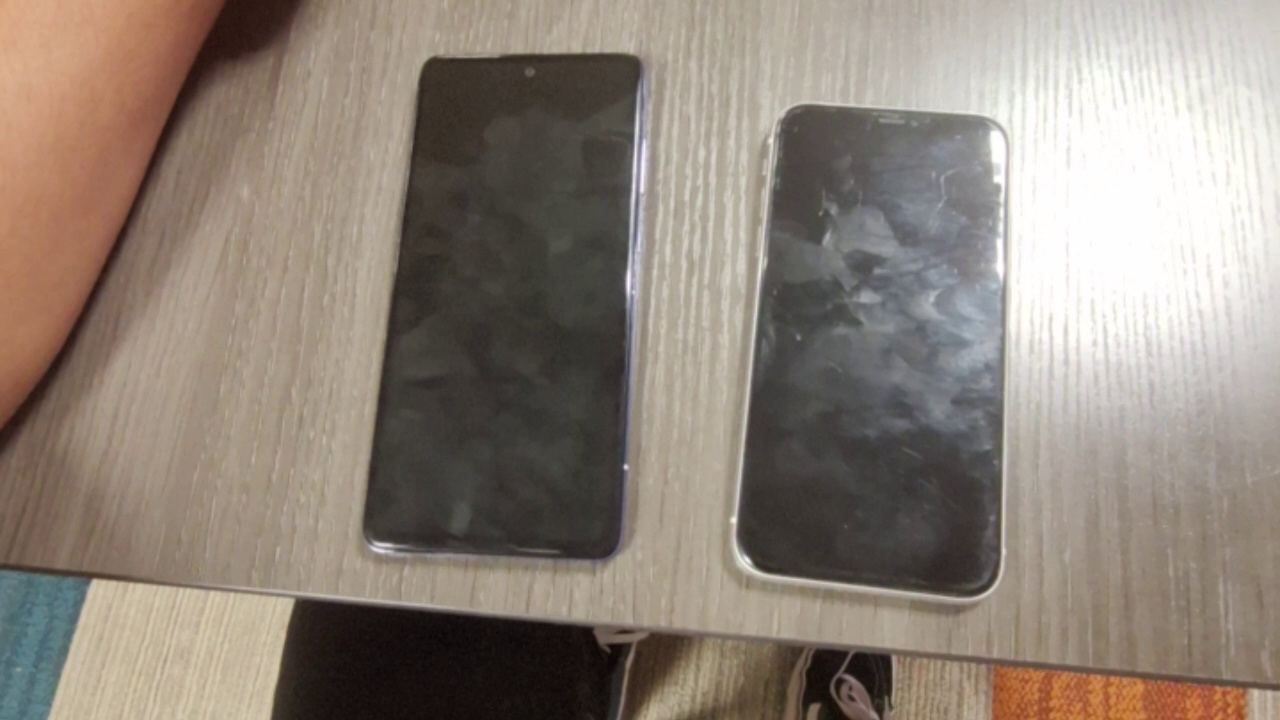celular: (727, 104, 1012, 608)
